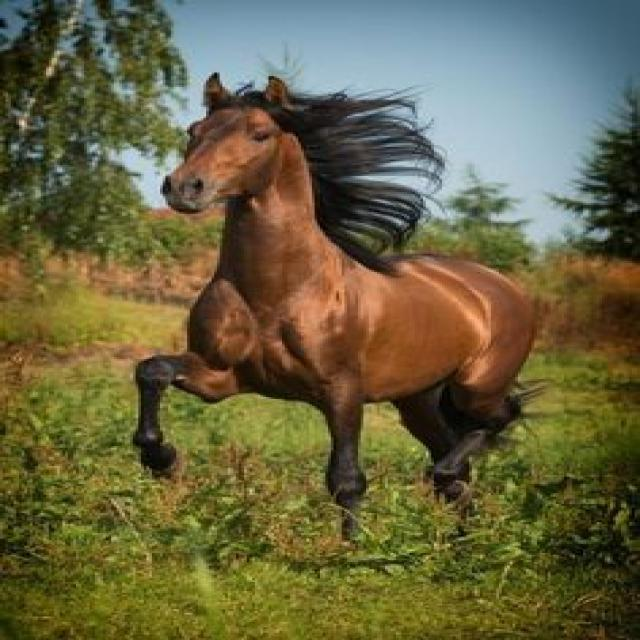Herbivorous: (133, 74, 537, 542)
